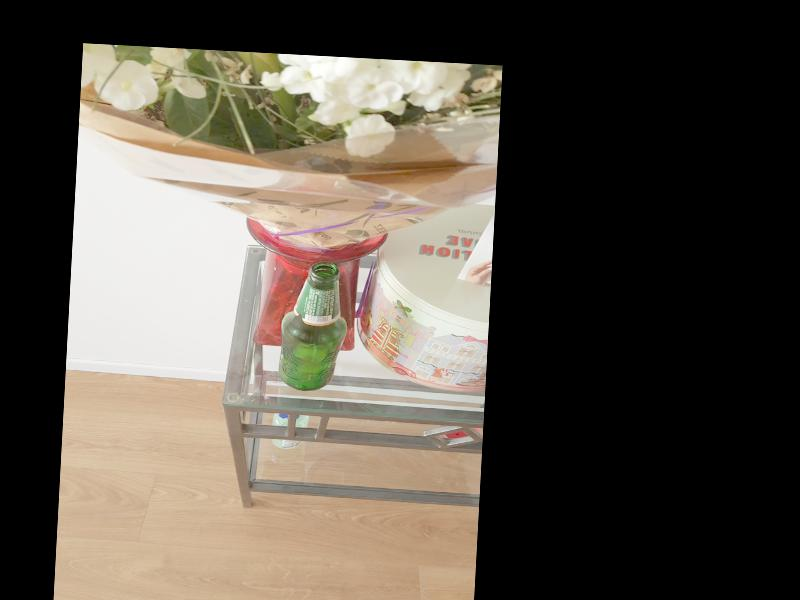Beer: (276, 261, 350, 393)
